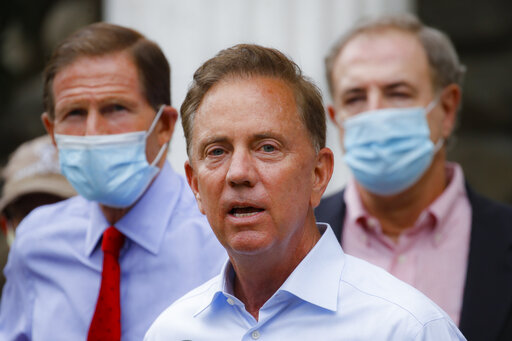with_mask: (333, 41, 443, 186), (51, 59, 155, 194)
without_mask: (192, 85, 308, 248)
